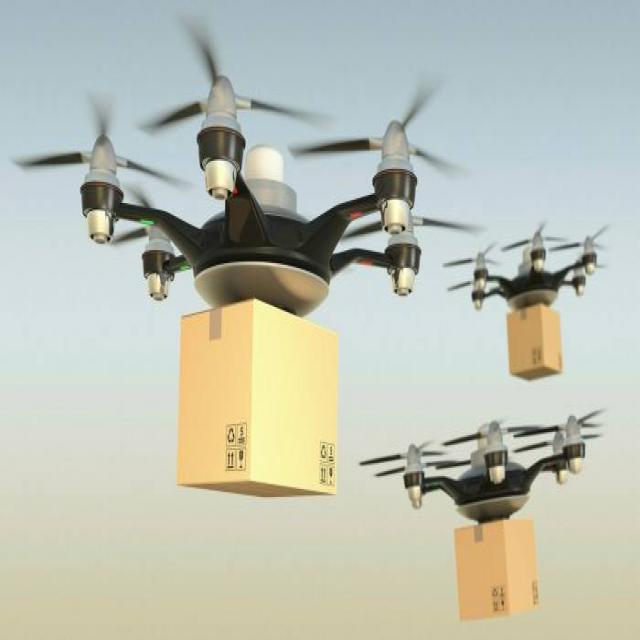drones: (11, 0, 474, 336), (346, 396, 616, 524), (439, 210, 620, 321)
